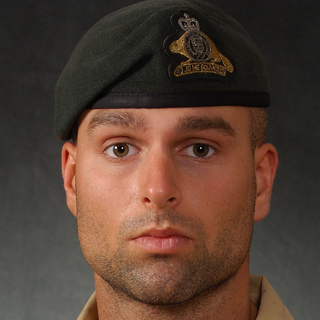eye: (178, 136, 224, 163), (96, 138, 142, 163)
